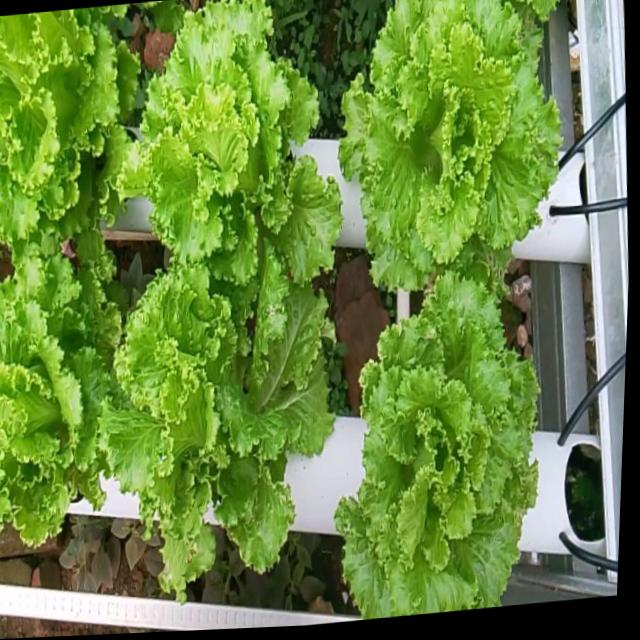Mature: (98, 275, 332, 610), (332, 271, 537, 617), (335, 0, 560, 295), (114, 0, 339, 291), (0, 10, 133, 282), (0, 261, 116, 557)
